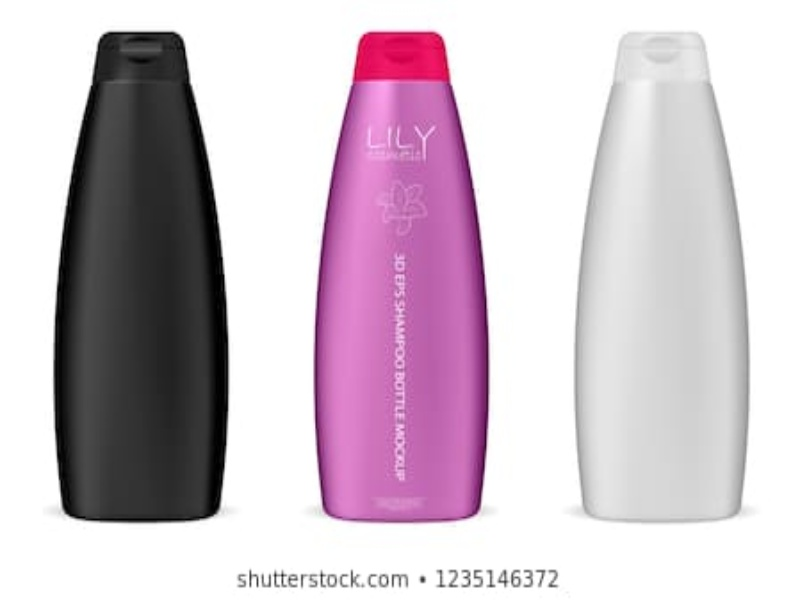shampoo-bottle: (53, 29, 233, 523), (572, 28, 752, 522), (309, 30, 489, 524)
